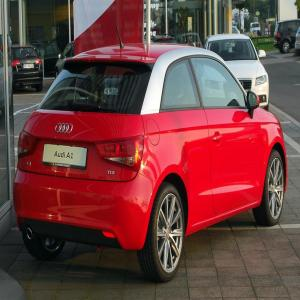Vehicle-registration-plate: (43, 143, 87, 169), (230, 92, 249, 102), (23, 65, 35, 70)
